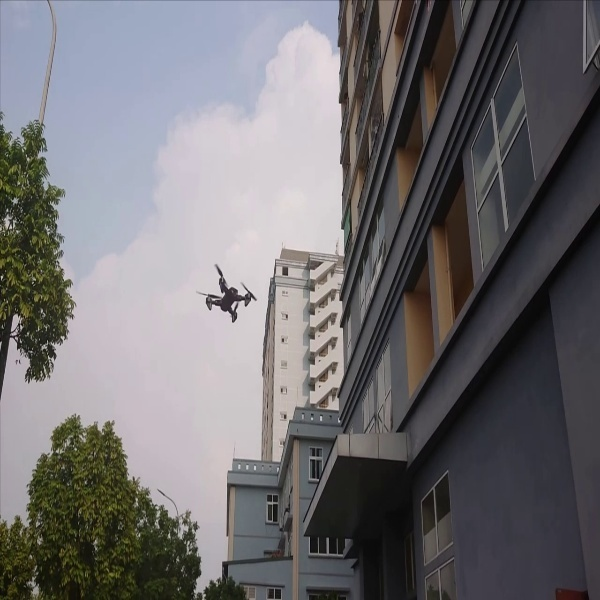drone: (192, 257, 265, 325)
